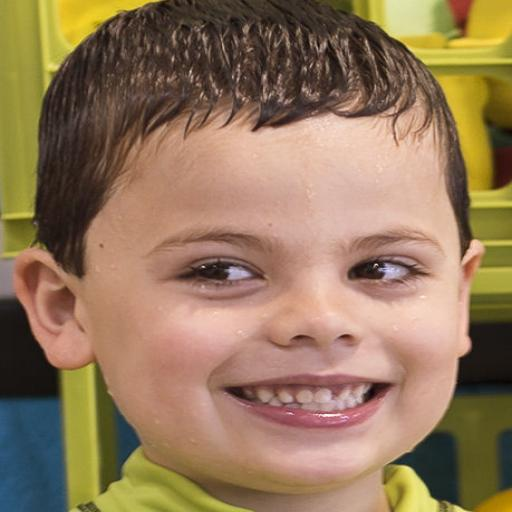Autism: (29, 19, 504, 475)
